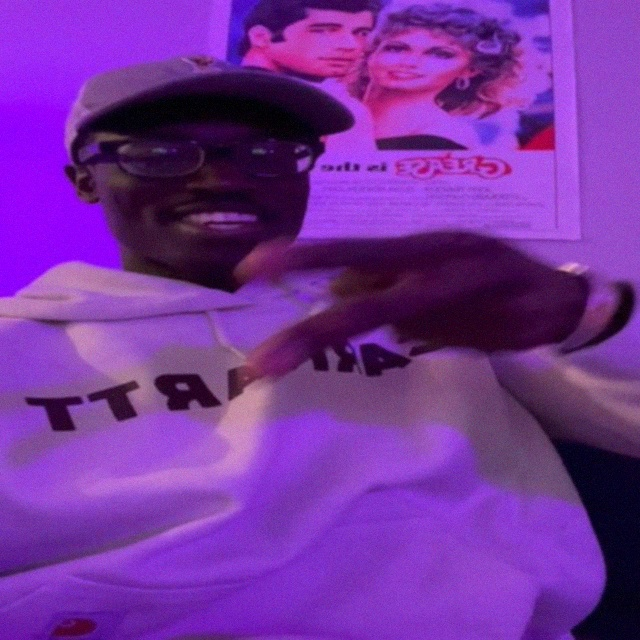Scissors: (234, 226, 587, 380)
